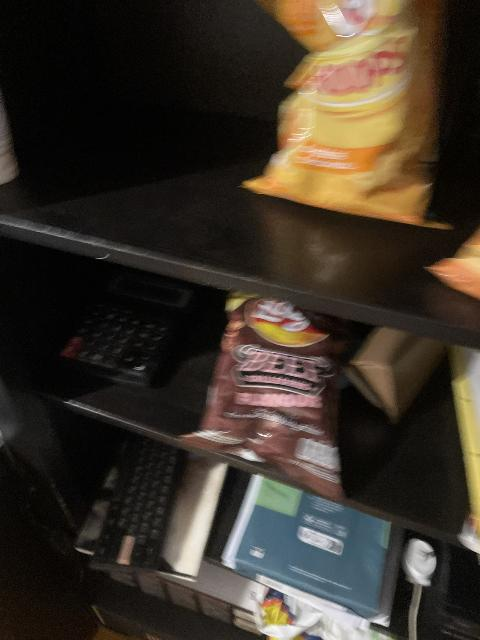Chio Hula Hoops Cheese 70g: (233, 5, 450, 225)
Lays Beef Grilled Ribs 125g: (181, 297, 353, 500)
